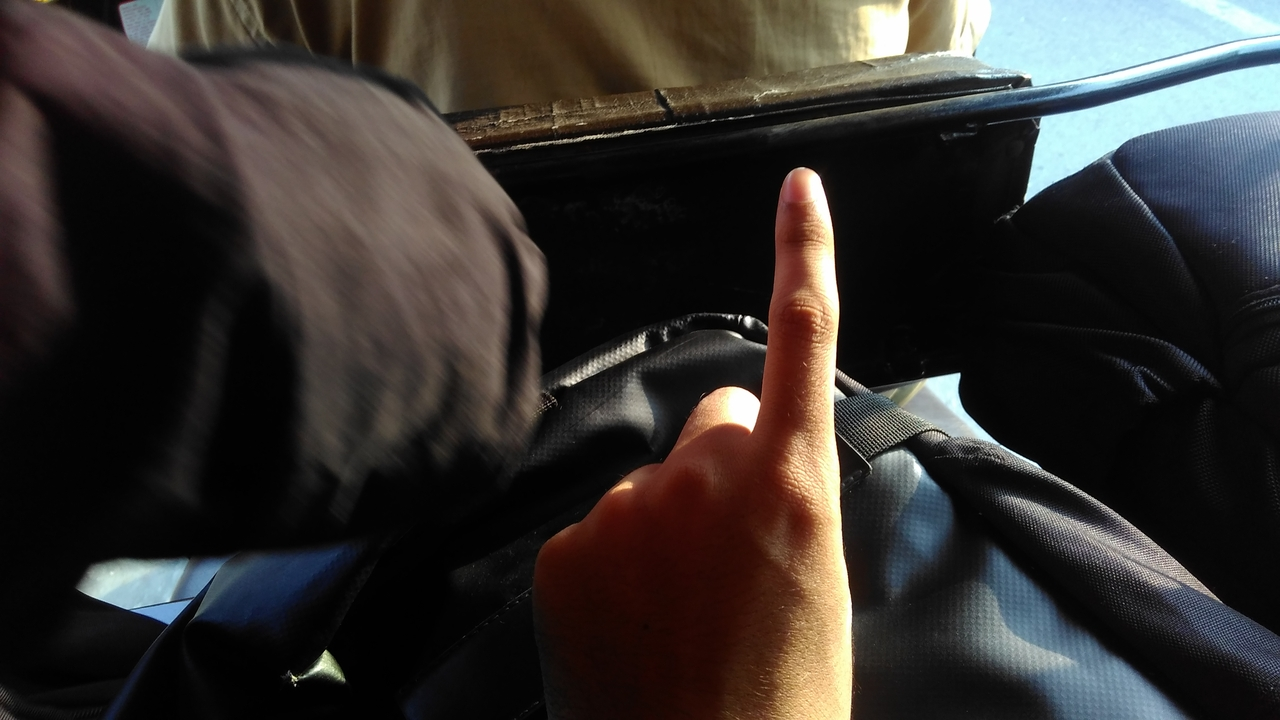fingertip: (774, 156, 834, 222)
